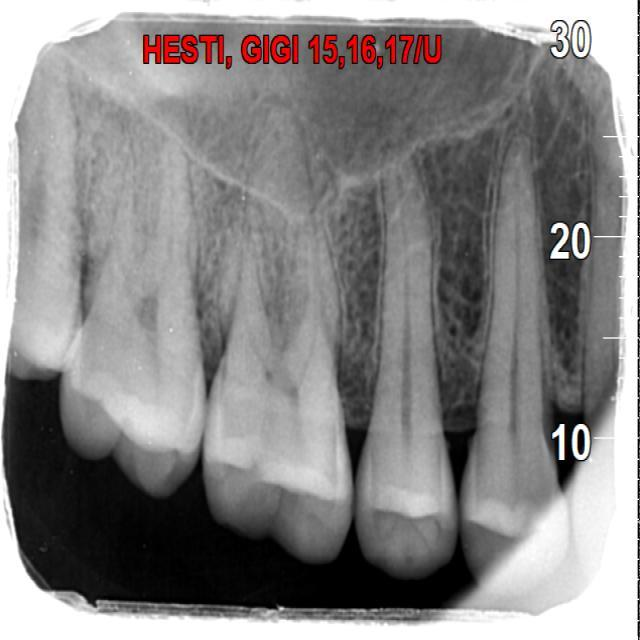individual-tooth-8tto: (57, 137, 211, 494), (204, 217, 359, 560), (458, 146, 566, 594), (356, 141, 460, 569)
